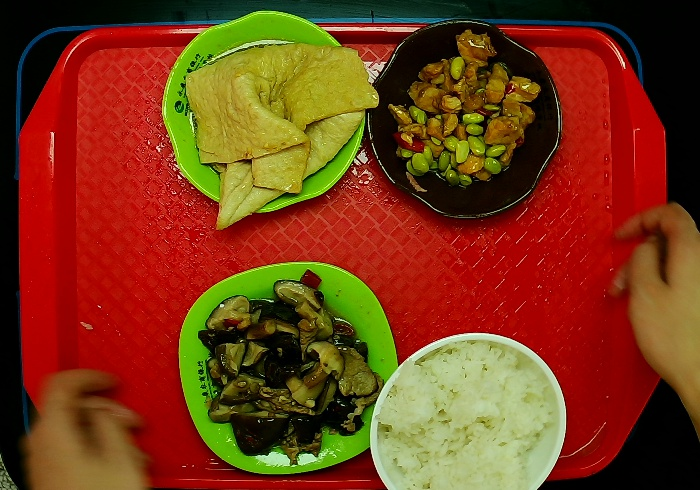YKMZ-Fan_Wan: (371, 331, 569, 490)
YKMZ-Ka_Fei_Ao_Bian_Wan: (364, 19, 562, 222)
YKMZ-Lv_Se_Ao_Bian_Wan: (160, 9, 367, 211)
YKMZ-Lv_Se_Fang_Die: (178, 259, 399, 475)
